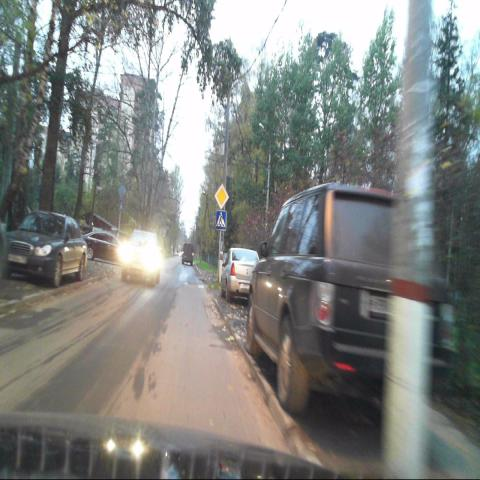2_1: (215, 184, 229, 210)
5_19_1: (216, 211, 226, 229)
